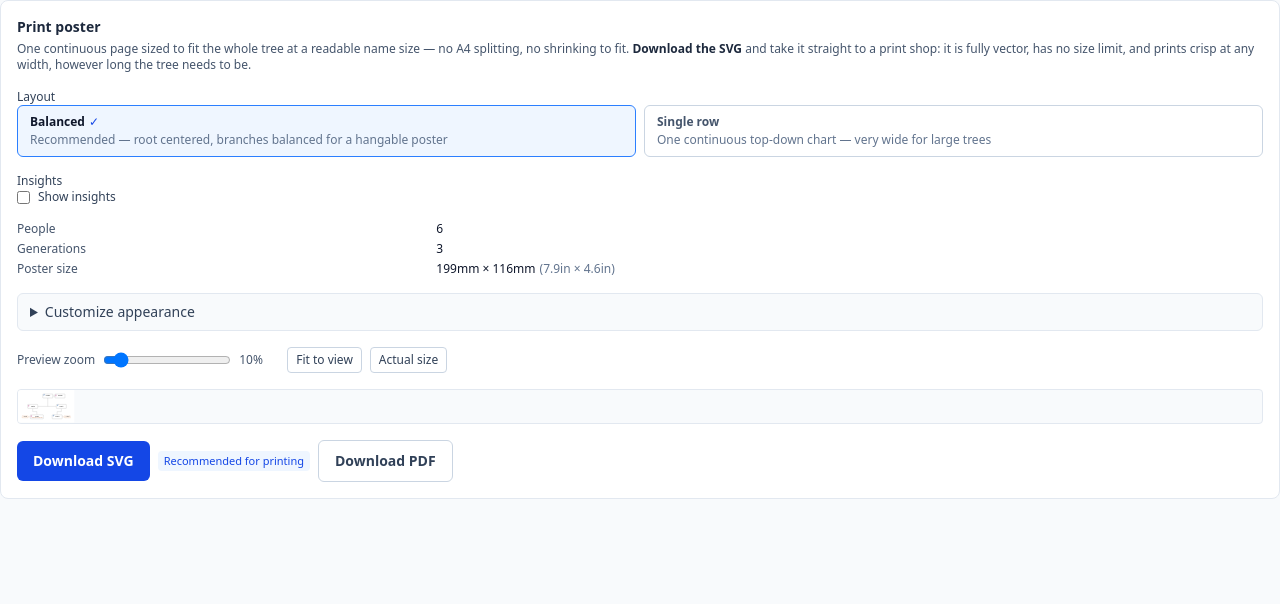
PosterExportPanel — insight overlays (CP5.8) › disables the generation-bands toggle under the balanced layout and enables it for a single row (D-13)
Step 1. Click the checkbox labelled "Show insights" → click(24, 197), box [17,190,30,204]
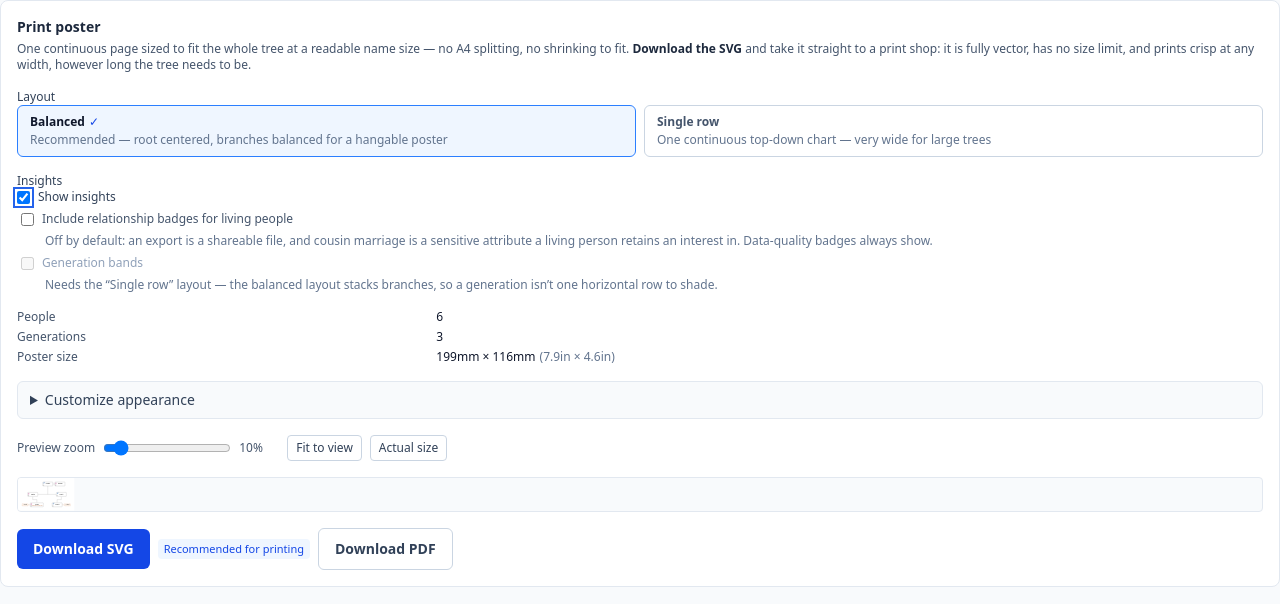
expect the checkbox labelled "Generation bands" is disabled: met, box [21,256,34,270]
Step 2. Click the radio button labelled "Single row" → click(954, 131), box [644,105,1263,157]
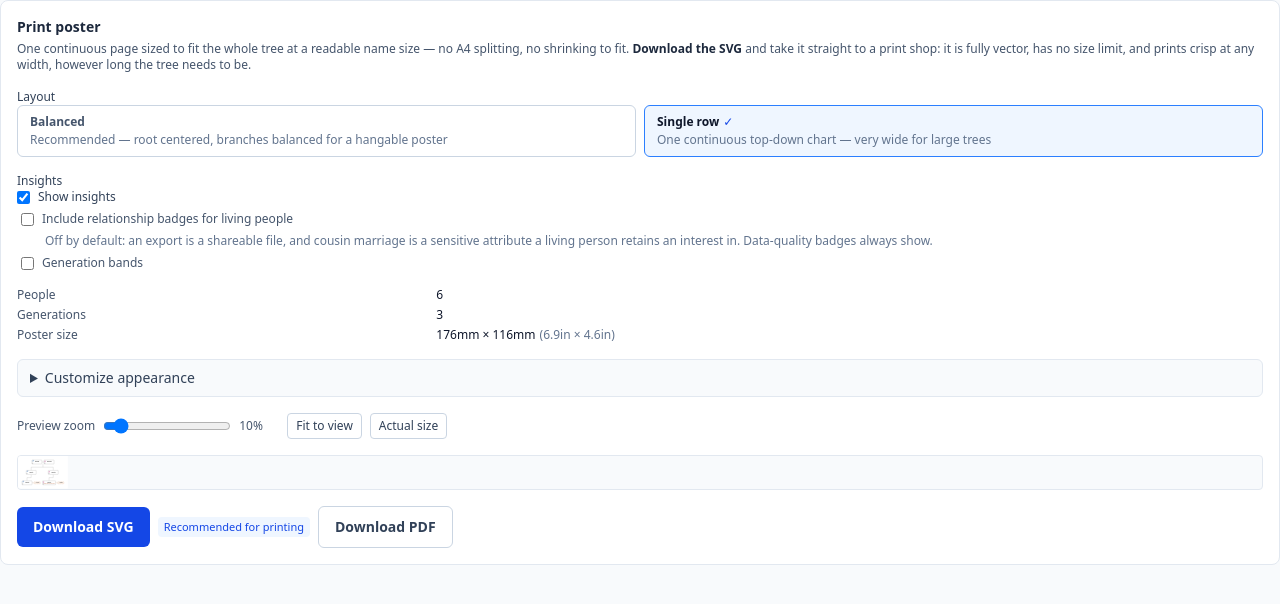
expect the checkbox labelled "Generation bands" is enabled: met, box [21,256,34,270]
